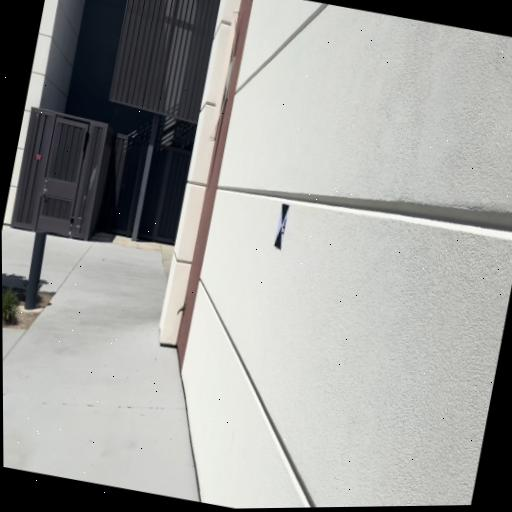target7: (274, 202, 291, 249)
